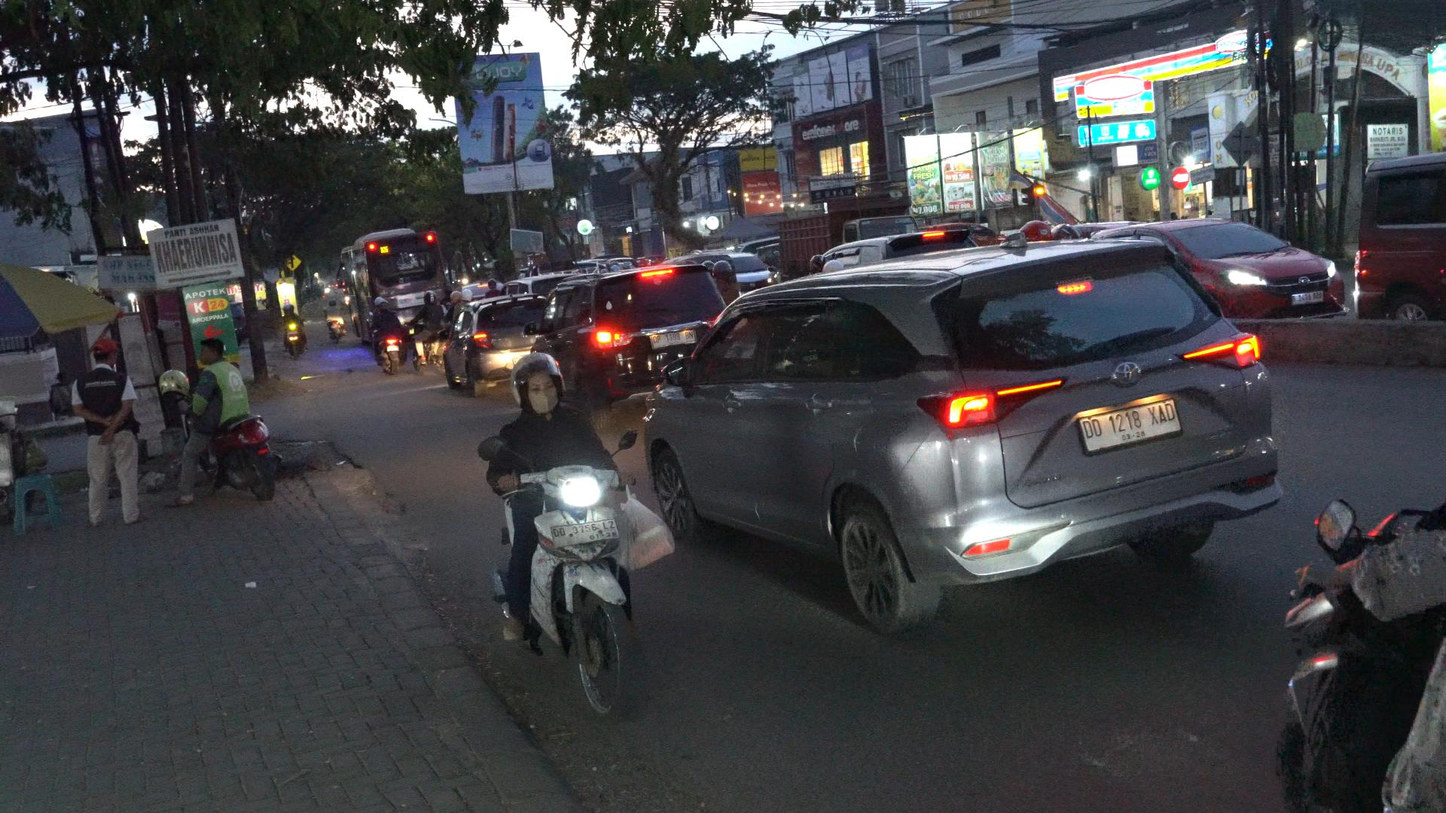number-plate: (546, 516, 622, 546)
